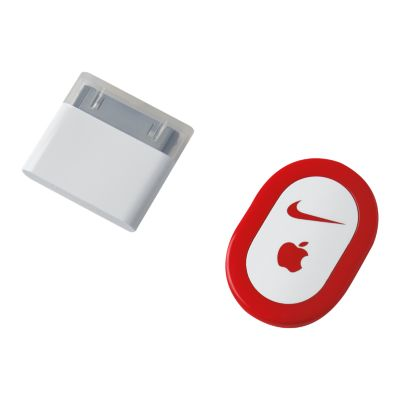Apple: (275, 233, 316, 275)
